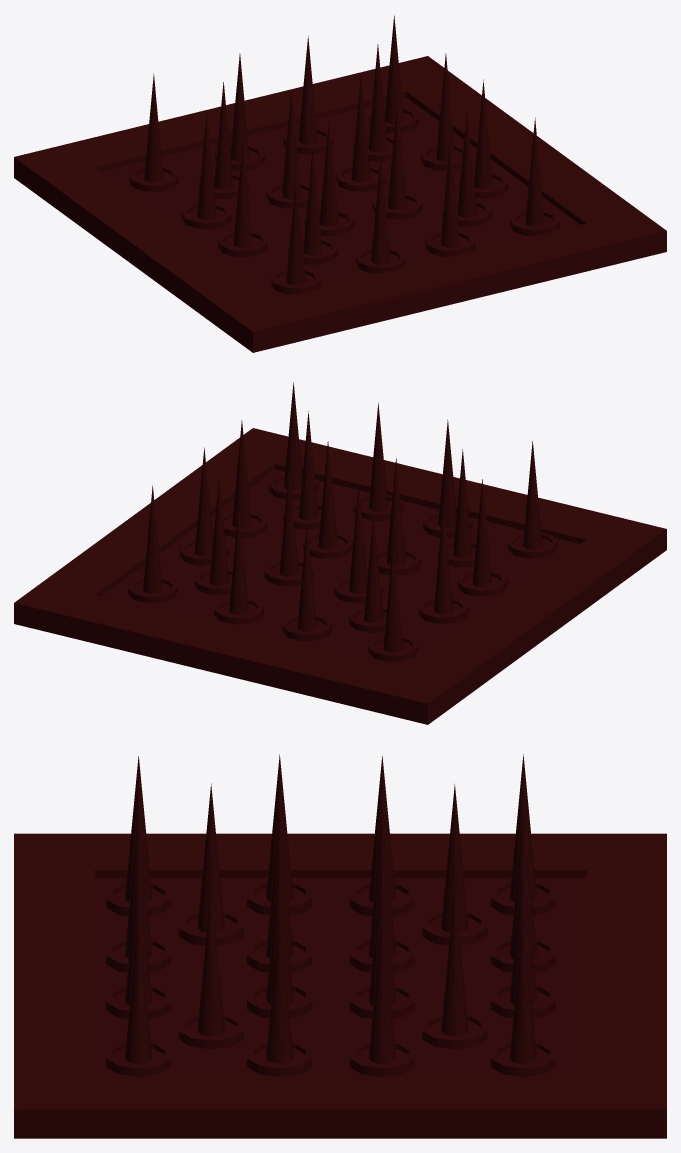
The model's file is SpikeTrap1.FBX.
3 renders of one model, top to bottom at view 1: azimuth 30°, elevation 25°; view 2: azimuth 150°, elevation 25°; view 3: azimuth 270°, elevation 25°, orthographic. The views are drawn at different scales.
Visible parts, largest first — view 1: TrapSpikeBase, Spike022, Spike040, Spike035, Spike020, Spike038, Spike023, Spike042, Spike024, Spike025, Spike032, Spike028 (+27 smaller); view 2: TrapSpikeBase, Spike039, Spike040, Spike031, Spike038, Spike037, Spike024, Spike036, Spike028, Spike021, Spike035, Spike042 (+25 smaller); view 3: TrapSpikeBase, Spike042, Spike035, Spike029, Spike030, Spike037, Spike020, Spike025, Spike041, SpikeHole023, SpikeHole001, SpikeHole011 (+29 smaller).
Part boxes in pixels (box(x1,y1,x2,y2)): TrapSpikeBase: box(14, 56, 666, 352); Spike022: box(371, 155, 390, 264); Spike040: box(144, 73, 163, 182); Spike035: box(368, 44, 387, 152); Spike020: box(525, 117, 544, 226); Spike038: box(298, 36, 317, 144); Spike023: box(286, 177, 305, 285); Spike042: box(457, 108, 476, 217); Spike024: box(233, 139, 252, 247); Spike025: box(303, 146, 322, 255); Spike032: box(319, 117, 338, 226); Spike028: box(351, 73, 370, 182); TrapSpikeBase: box(14, 428, 666, 724); Spike039: box(297, 523, 316, 631); Spike040: box(383, 543, 402, 652); Spike031: box(318, 441, 337, 549); Spike038: box(229, 505, 248, 614); Spike037: box(143, 485, 162, 593); Spike024: box(472, 479, 491, 587); Spike036: box(433, 505, 453, 614); Spike028: box(279, 467, 298, 576); Spike021: box(368, 403, 387, 511); Spike035: box(209, 477, 228, 585); Spike042: box(298, 411, 318, 520); TrapSpikeBase: box(14, 833, 666, 1138); Spike042: box(197, 886, 224, 1036); Spike035: box(441, 887, 468, 1036); Spike029: box(368, 915, 395, 1063); Spike030: box(266, 914, 293, 1063); Spike037: box(509, 914, 537, 1063); Spike020: box(125, 915, 152, 1063); Spike025: box(197, 783, 224, 932); Spike041: box(441, 784, 468, 932); SpikeHole023: box(178, 1013, 243, 1049); SpikeHole001: box(106, 1041, 171, 1076); SpikeHole011: box(247, 1041, 312, 1076).
Size of the model in its own units: 15.83 by 4.47 by 15.83.
